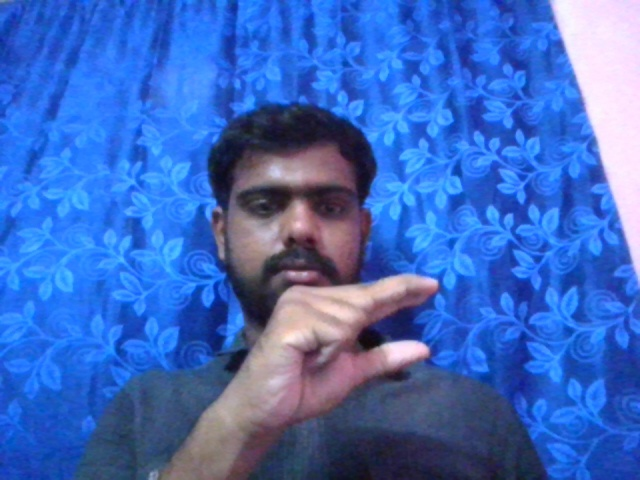No: (235, 264, 444, 422)
